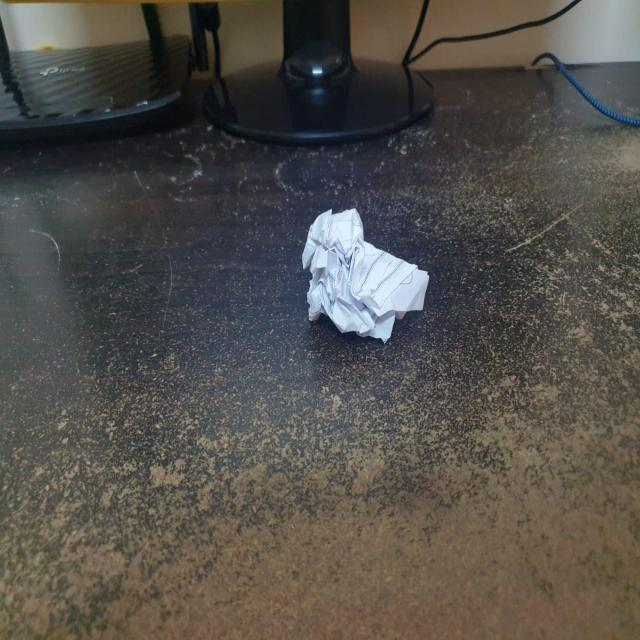cardboard paper: (301, 208, 427, 340)
